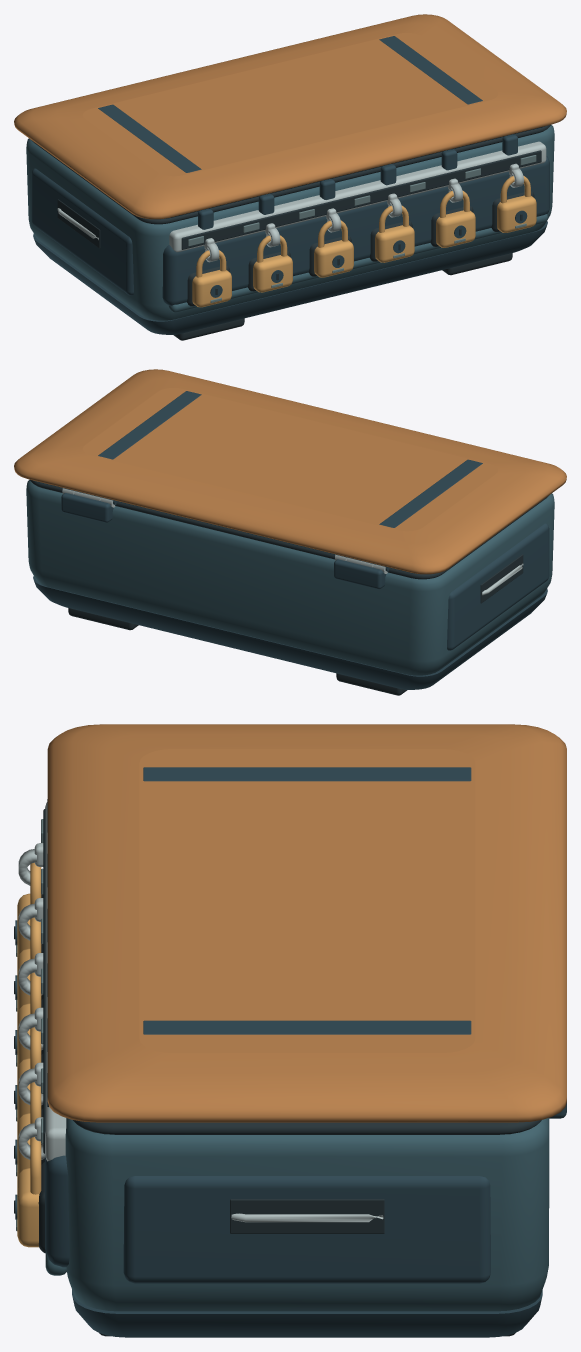
Rendered from coaster-chest.glb.
3 views of the same model, one above another, from view 1: azimuth 30°, elevation 25°; view 2: azimuth 150°, elevation 25°; view 3: azimuth 270°, elevation 25° (orthographic). The views are drawn at different scales.
Parts seen in each view (by area): view 1: ChestLidSurfaces, ChestBodySurfaces; view 2: ChestLidSurfaces, ChestBodySurfaces; view 3: ChestLidSurfaces, ChestBodySurfaces.
Part boxes in pixels (left/top/right/bottom): ChestLidSurfaces: left=14, top=14, right=566, bottom=262; ChestBodySurfaces: left=26, top=124, right=554, bottom=340; ChestLidSurfaces: left=14, top=369, right=566, bottom=574; ChestBodySurfaces: left=26, top=479, right=554, bottom=695; ChestLidSurfaces: left=18, top=724, right=566, bottom=1159; ChestBodySurfaces: left=14, top=802, right=566, bottom=1337.
Size of the model in its own units: 3.9 by 1.35 by 2.34.
